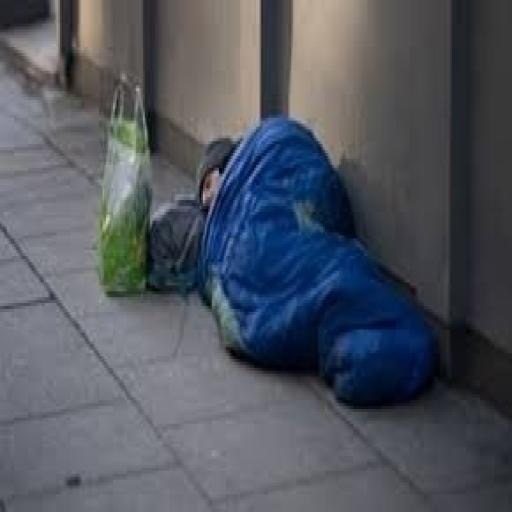sleeping: (192, 112, 442, 409)
